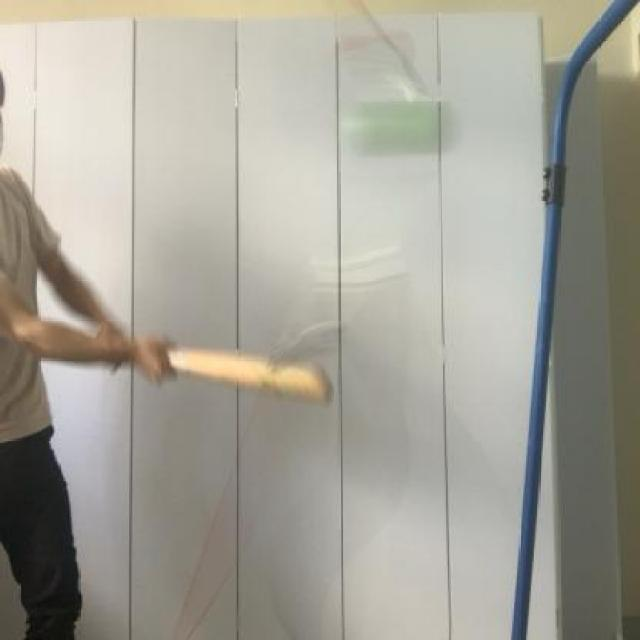baseball: (341, 87, 457, 155)
